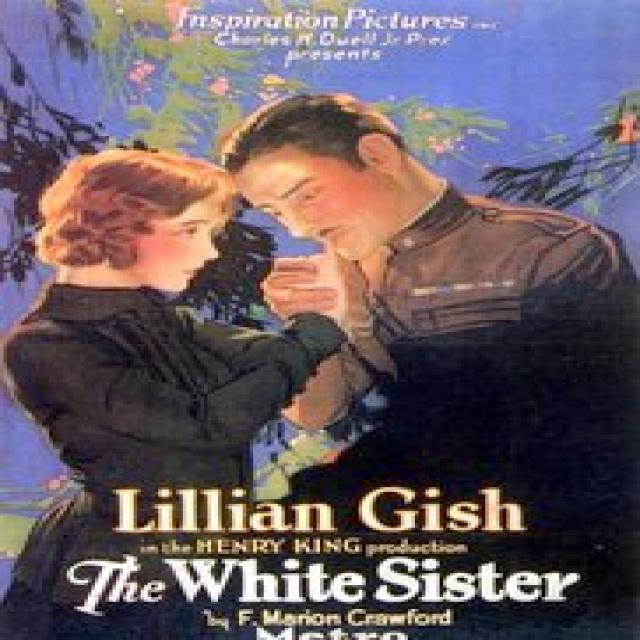movie-judul: (36, 466, 583, 639)
picture: (25, 95, 640, 630)
